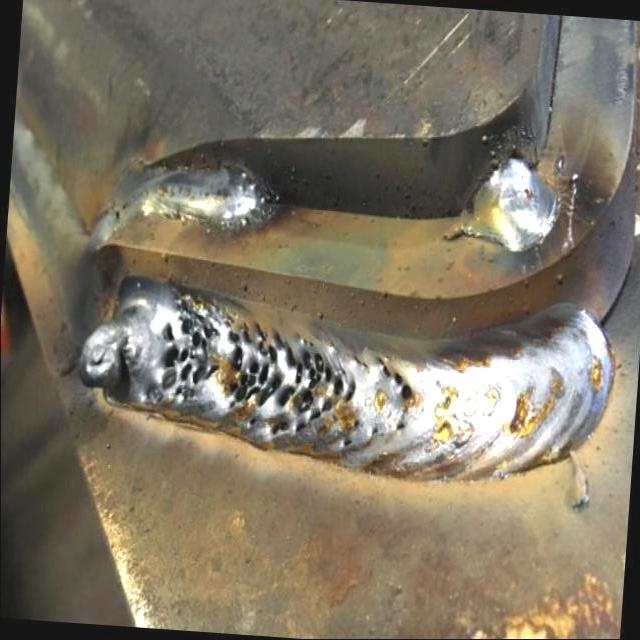defect: (221, 317, 352, 441), (152, 296, 223, 404), (371, 347, 420, 409), (346, 350, 365, 373), (388, 418, 407, 439), (340, 437, 355, 453), (350, 415, 360, 430), (369, 426, 381, 438)
